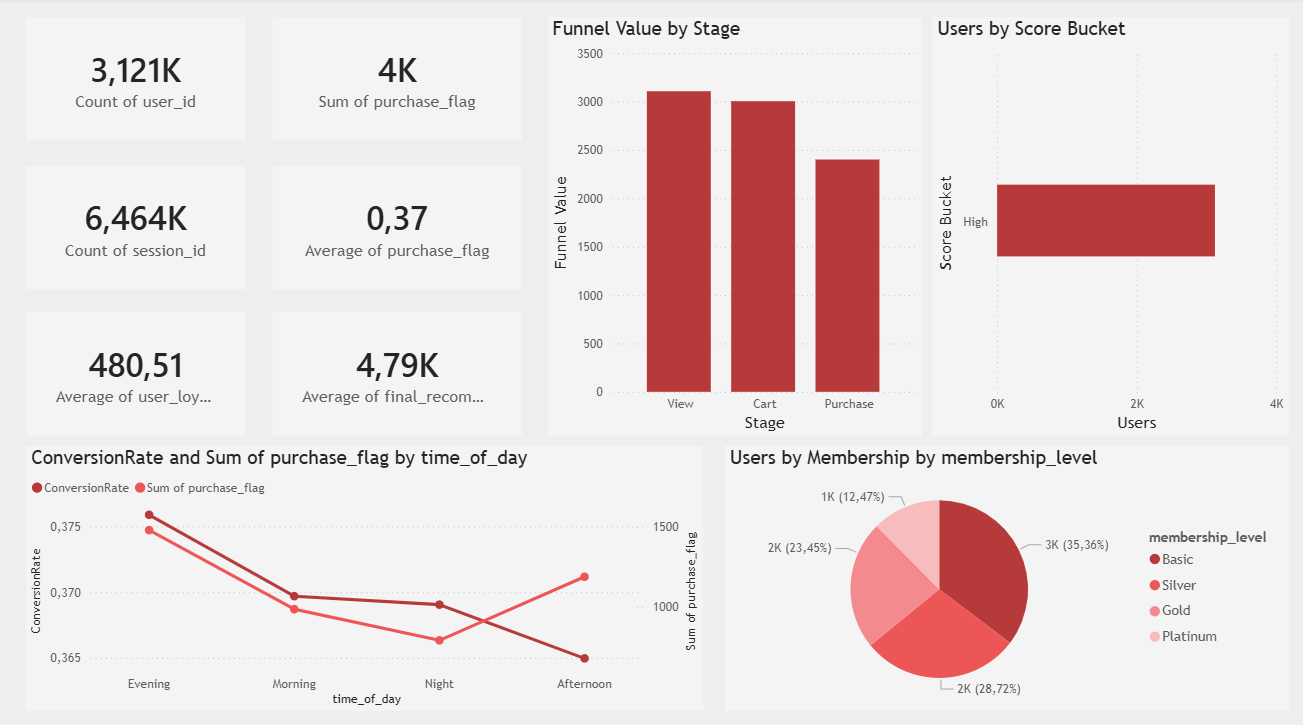

This screenshot's page, from the dashboard's own definition file:
{"tool":"powerbi","page":{"name":"Executive Overview","canvas":[1280,720],"ordinal":0},"visuals":[{"type":"cardVisual","fields":{"Data":["Count(E-COMMERCE DATA.user_id)"]},"box":[30.2,19.2,214.1,120.8],"z":0},{"type":"cardVisual","fields":{"Data":["Sum(E-COMMERCE DATA.purchase_flag)"]},"box":[271.7,19.2,244.3,120.8],"z":1000},{"type":"cardVisual","fields":{"Data":["Count(E-COMMERCE DATA.session_id)"]},"box":[30.2,164.7,214.1,120.8],"z":2000},{"type":"cardVisual","fields":{"Data":["Avg(E-COMMERCE DATA.purchase_flag)"]},"box":[271.7,164.7,244.3,120.8],"z":3000},{"type":"cardVisual","fields":{"Data":["Avg(E-COMMERCE DATA.user_loyalty_score)"]},"box":[30.2,308.7,214.1,120.8],"z":4000},{"type":"cardVisual","fields":{"Data":["Avg(E-COMMERCE DATA.final_recommendation_score)"]},"box":[271.7,308.7,244.3,120.8],"z":5000},{"type":"lineChart","fields":{"Y":["E-COMMERCE DATA.ConversionRate"],"Category":["E-COMMERCE DATA.time_of_day"],"Y2":["Sum(E-COMMERCE DATA.purchase_flag)"]},"box":[30.2,439.1,662.8,259.3],"z":6000},{"type":"clusteredColumnChart","fields":{"Category":["Stage.Stage"],"Y":["E-COMMERCE DATA.Funnel Value"]},"box":[540.7,19.2,366.4,410.3],"z":7000},{"type":"pieChart","fields":{"Y":["E-COMMERCE DATA.Users by Membership"],"Category":["E-COMMERCE DATA.membership_level"]},"box":[713.6,439.1,551.6,259.3],"z":8000},{"type":"clusteredBarChart","fields":{"Category":["E-COMMERCE DATA.Score Bucket"],"Y":["E-COMMERCE DATA.Users"]},"box":[916.6,19.2,348.5,410.3],"z":9000}]}

Visuals, with their boxes in screenshot pixels (x1, y1, x2, y2), scaled from the page's 1280x720 canvas onto the 1303x725 screenshot:
cardVisual - Count(E-COMMERCE DATA.user_id): [31,19,249,141]
cardVisual - Sum(E-COMMERCE DATA.purchase_flag): [277,19,525,141]
cardVisual - Count(E-COMMERCE DATA.session_id): [31,166,249,287]
cardVisual - Avg(E-COMMERCE DATA.purchase_flag): [277,166,525,287]
cardVisual - Avg(E-COMMERCE DATA.user_loyalty_score): [31,311,249,432]
cardVisual - Avg(E-COMMERCE DATA.final_recommendation_score): [277,311,525,432]
lineChart - E-COMMERCE DATA.ConversionRate x E-COMMERCE DATA.time_of_day: [31,442,705,703]
clusteredColumnChart - Stage.Stage x E-COMMERCE DATA.Funnel Value: [550,19,923,432]
pieChart - E-COMMERCE DATA.Users by Membership x E-COMMERCE DATA.membership_level: [726,442,1288,703]
clusteredBarChart - E-COMMERCE DATA.Score Bucket x E-COMMERCE DATA.Users: [933,19,1288,432]
